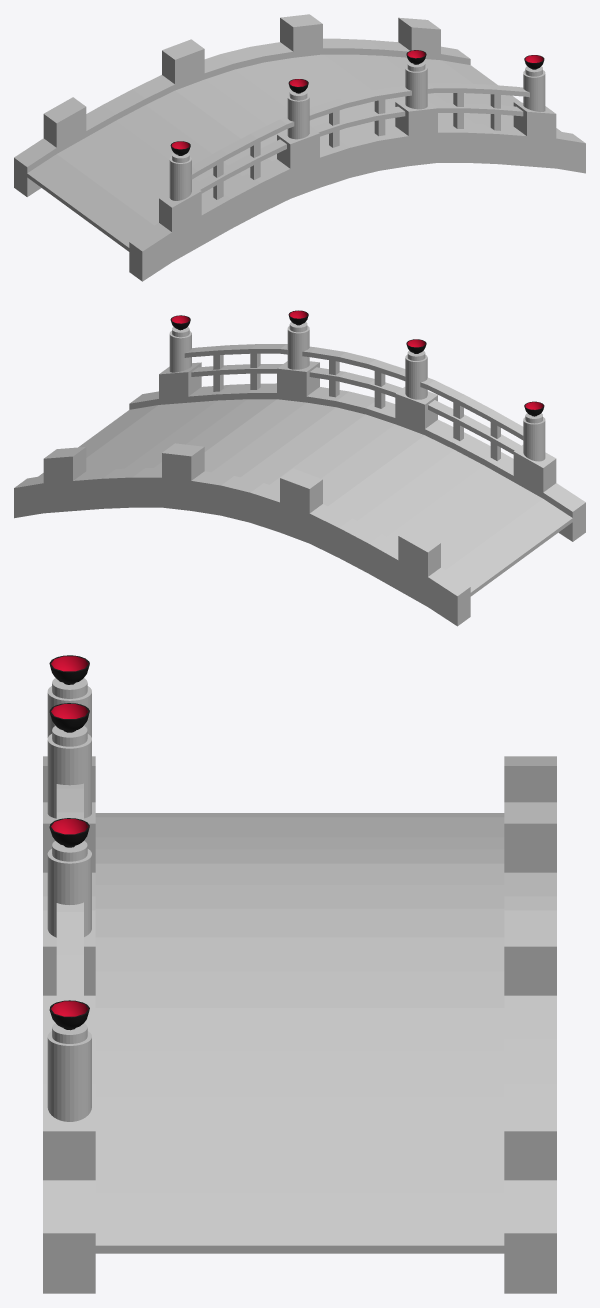
The model's file is bridge.obj.
3 views of the same model, one above another, from view 1: azimuth 30°, elevation 25°; view 2: azimuth 150°, elevation 25°; view 3: azimuth 270°, elevation 25° (orthographic). The views are drawn at different scales.
Visible parts, largest first — view 1: 円柱.005; view 2: 円柱.005; view 3: 円柱.005.
Boxes of the visible parts, x1,y1,x2,y2 form: 円柱.005: (14, 14, 585, 281); 円柱.005: (14, 310, 585, 626); 円柱.005: (43, 655, 556, 1293).
Size of the model in its own units: 13.93 by 4.62 by 6.99.
